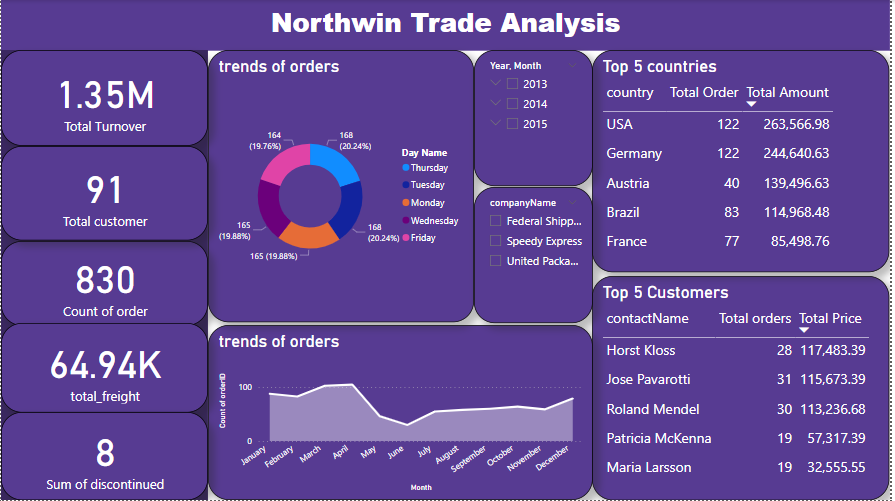

What the dashboard file says about the page in this screenshot:
{"tool":"powerbi","page":{"name":"Page 1","canvas":[1280,720],"ordinal":0},"visuals":[{"type":"textbox","box":[0,0,1280,72.6],"z":0},{"type":"tableEx","title":"Top 5 Customers","fields":{"Values":["customers.contactName","CountNonNull(orders.orderID)","Sum(order_details.TotalPrice)"]},"box":[851.5,397.6,428.5,323.2],"z":1000},{"type":"areaChart","title":"trends of orders","fields":{"Category":["orders.orderDate.Variation.Date Hierarchy.Year","orders.orderDate.Variation.Date Hierarchy.Month"],"Y":["CountNonNull(orders.orderID)"]},"box":[297.8,468.4,553.8,252.4],"z":2000},{"type":"donutChart","title":"trends of orders","fields":{"Category":["orders.Day Name"],"Y":["CountNonNull(orders.orderID)"]},"box":[297.8,72.6,383.1,392.2],"z":3000},{"type":"shape","box":[0,72.6,297.8,648.2],"z":4000},{"type":"card","title":"trends of orders","fields":{"Values":["CountNonNull(orders.orderID)"]},"box":[0,346.8,297.8,121.6],"z":5000},{"type":"card","title":"Top 10 Customers","fields":{"Values":["Sum(orders.freight)"]},"box":[0,464.8,297.8,128.9],"z":6000},{"type":"card","title":"Top 10 Customers","fields":{"Values":["Sum(products.discontinued)"]},"box":[0,593.7,297.8,127.1],"z":7000},{"type":"card","title":"Top 10 Customers","fields":{"Values":["Sum(order_details.TotalPrice)"]},"box":[0,72.6,297.8,138],"z":8000},{"type":"card","title":"Top 10 Customers","fields":{"Values":["CountNonNull(customers.customerID)"]},"box":[0,210.6,297.8,136.2],"z":9000},{"type":"tableEx","title":"Top 5 countries","fields":{"Values":["customers.country","orders.orderID","Sum(order_details.TotalPrice)"]},"box":[851.5,72.6,428.5,319.5],"z":10000},{"type":"slicer","title":"days between required delivery date and shipped date","fields":{"Values":["orders.Year","orders.Month"]},"box":[680.9,72.6,170.7,196.1],"z":11000},{"type":"slicer","title":"days between required delivery date and shipped date","fields":{"Values":["shippers.companyName"]},"box":[680.9,268.7,170.7,196.1],"z":12000}]}

Visuals, with their boxes in screenshot pixels (x1, y1, x2, y2), scaled from the page's 1280x720 canvas onto the 895x501 screenshot:
textbox: {"left": 0, "top": 0, "right": 894, "bottom": 51}
"Top 5 Customers" tableEx: {"left": 595, "top": 277, "right": 894, "bottom": 500}
"trends of orders" areaChart: {"left": 208, "top": 326, "right": 595, "bottom": 500}
"trends of orders" donutChart: {"left": 208, "top": 51, "right": 476, "bottom": 323}
shape: {"left": 0, "top": 51, "right": 208, "bottom": 500}
"trends of orders" card: {"left": 0, "top": 241, "right": 208, "bottom": 326}
"Top 10 Customers" card: {"left": 0, "top": 323, "right": 208, "bottom": 413}
"Top 10 Customers" card: {"left": 0, "top": 413, "right": 208, "bottom": 500}
"Top 10 Customers" card: {"left": 0, "top": 51, "right": 208, "bottom": 147}
"Top 10 Customers" card: {"left": 0, "top": 147, "right": 208, "bottom": 241}
"Top 5 countries" tableEx: {"left": 595, "top": 51, "right": 894, "bottom": 273}
"days between required delivery date and shipped date" slicer: {"left": 476, "top": 51, "right": 595, "bottom": 187}
"days between required delivery date and shipped date" slicer: {"left": 476, "top": 187, "right": 595, "bottom": 323}
